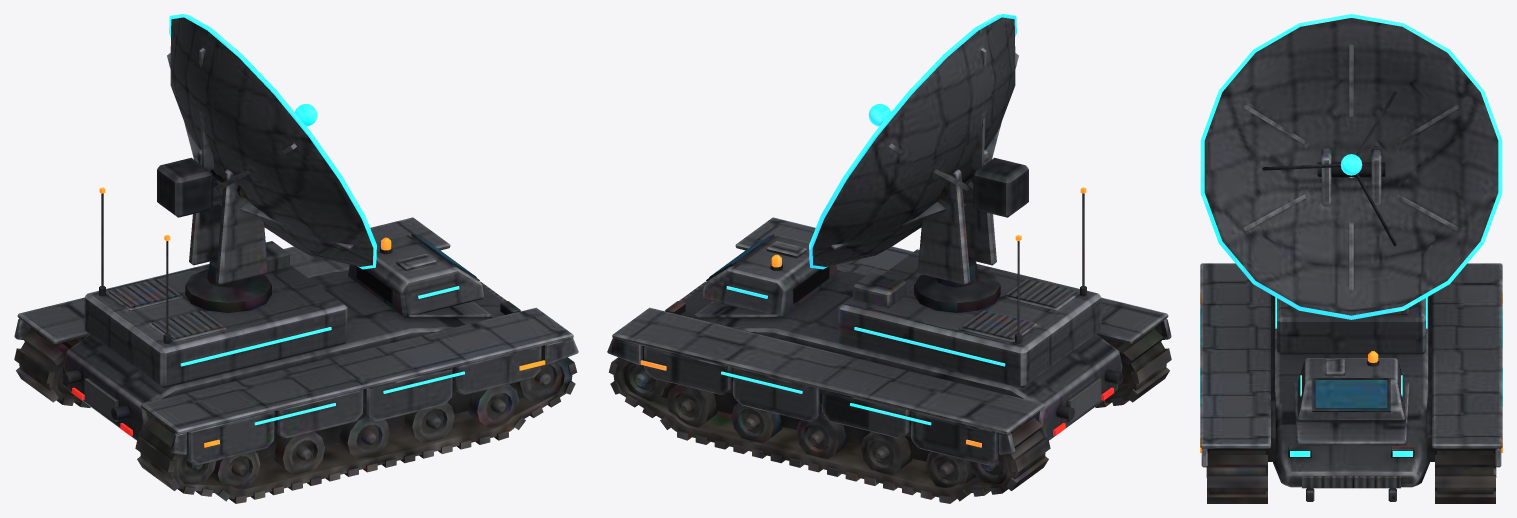
The model's file is watchman.glb.
3 renders of one model, left to right at view 1: azimuth 30°, elevation 25°; view 2: azimuth 150°, elevation 25°; view 3: azimuth 270°, elevation 25°, orthographic. The views are drawn at different scales.
Visible parts, largest first — view 1: Hull, Dish; view 2: Hull, Dish; view 3: Dish, Hull.
Boxes of the visible parts, left/top/right/bottom form: Hull: left=14, top=187, right=578, bottom=503; Dish: left=157, top=14, right=376, bottom=312; Hull: left=607, top=187, right=1171, bottom=503; Dish: left=809, top=14, right=1028, bottom=312; Dish: left=1200, top=14, right=1502, bottom=319; Hull: left=1200, top=263, right=1502, bottom=503.
Bounding box in the file's own units: 6.74 × 6.27 × 4.47.
Materials: 1 (1 with a texture image).
